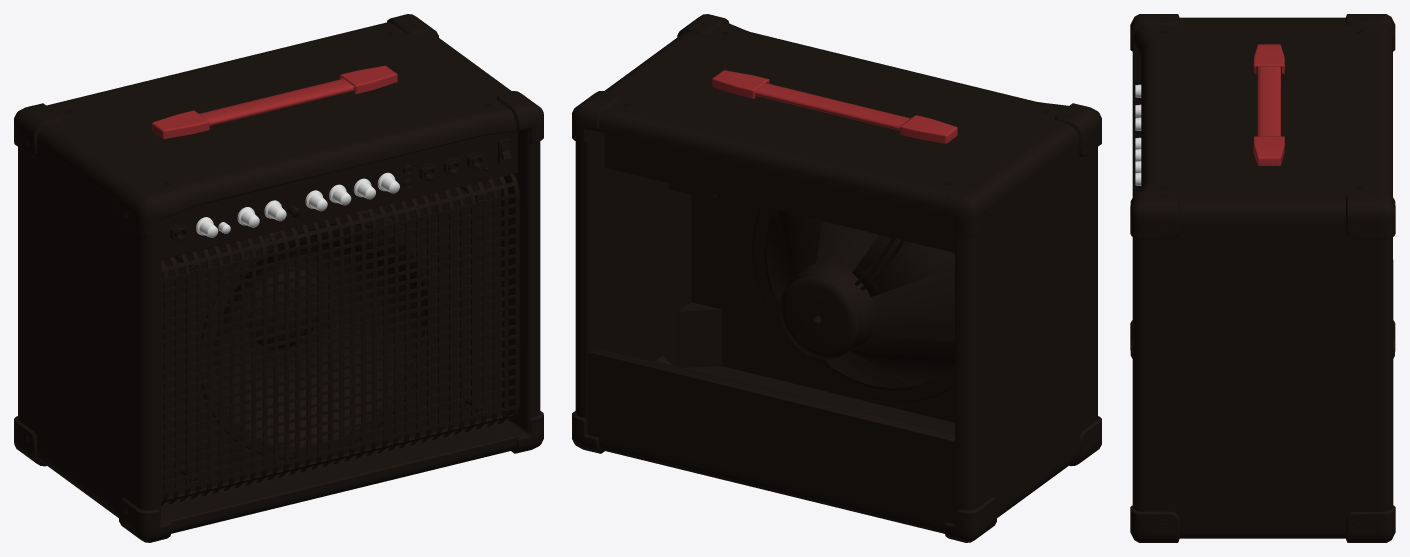
Rendered from _uitaramp.fbx.
3 renders of one model, left to right at view 1: azimuth 30°, elevation 25°; view 2: azimuth 150°, elevation 25°; view 3: azimuth 270°, elevation 25°, orthographic.
Parts seen in each view (by area): view 1: Pojacalo.001; view 2: Pojacalo.001; view 3: Pojacalo.001.
Boxes of the visible parts, x1=… form: Pojacalo.001: x1=14, y1=14, x2=543, y2=542; Pojacalo.001: x1=572, y1=14, x2=1101, y2=542; Pojacalo.001: x1=1130, y1=14, x2=1395, y2=542.
Size of the model in its own units: 48.48 by 40.96 by 27.65.
